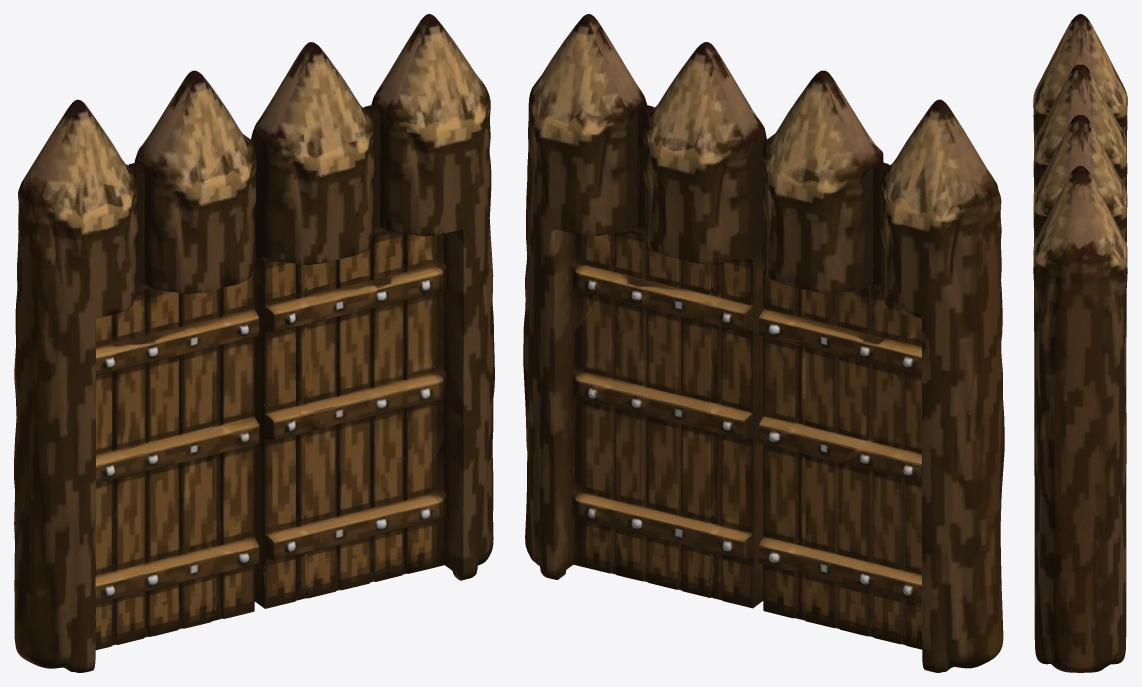
The model's file is wooden_gate.glb.
3 views of the same model, side by side, from view 1: azimuth 30°, elevation 25°; view 2: azimuth 150°, elevation 25°; view 3: azimuth 270°, elevation 25° (orthographic). The views are drawn at different scales.
Parts seen in each view (by area): view 1: Mesh_0; view 2: Mesh_0; view 3: Mesh_0.
Boxes of the visible parts, x1,y1,x2,y2 form: Mesh_0: [14, 14, 494, 672]; Mesh_0: [523, 14, 1004, 672]; Mesh_0: [1033, 14, 1127, 672].
Bounding box in the file's own units: 2.07 × 2.34 × 0.4089.
Materials: 1 (1 with a texture image).
